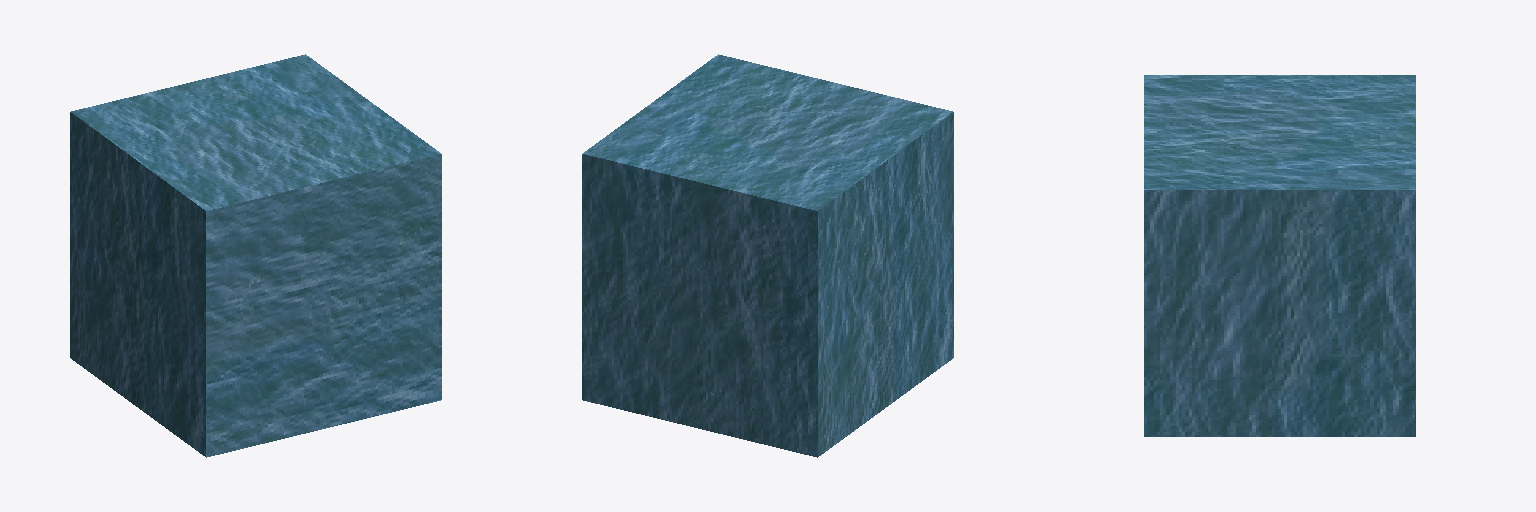
The picture shows the model from 3 angles: view 1: azimuth 30°, elevation 25°; view 2: azimuth 150°, elevation 25°; view 3: azimuth 270°, elevation 25°; orthographic projection.
Parts seen in each view (by area): view 1: Cube; view 2: Cube; view 3: Cube.
Part boxes in pixels (x1,y1,x2,y2): Cube: (70, 54, 441, 457); Cube: (582, 54, 953, 457); Cube: (1144, 75, 1415, 436).
Size of the model in its own units: 4 by 4 by 4.
1 materials, 1 textured.